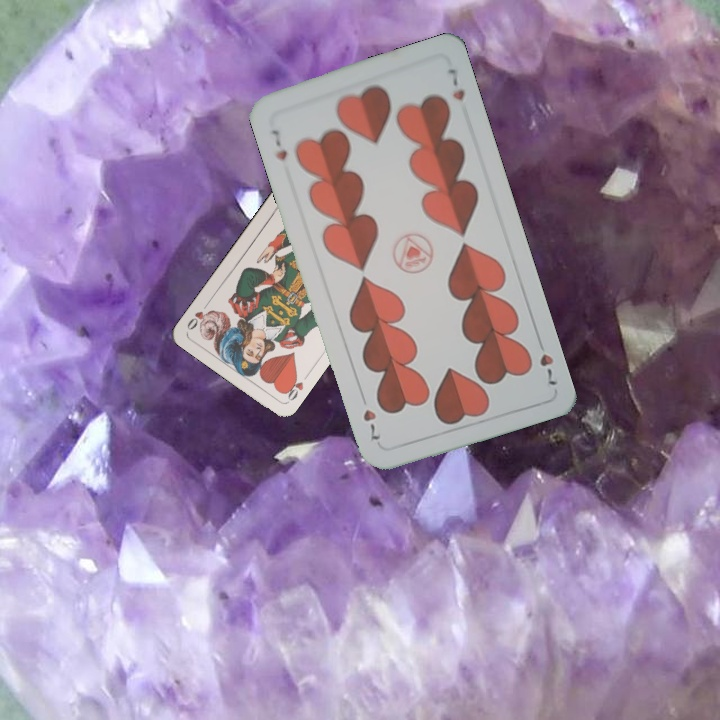H7: (533, 333, 561, 388), (267, 125, 290, 164)
HO: (279, 369, 312, 405)
